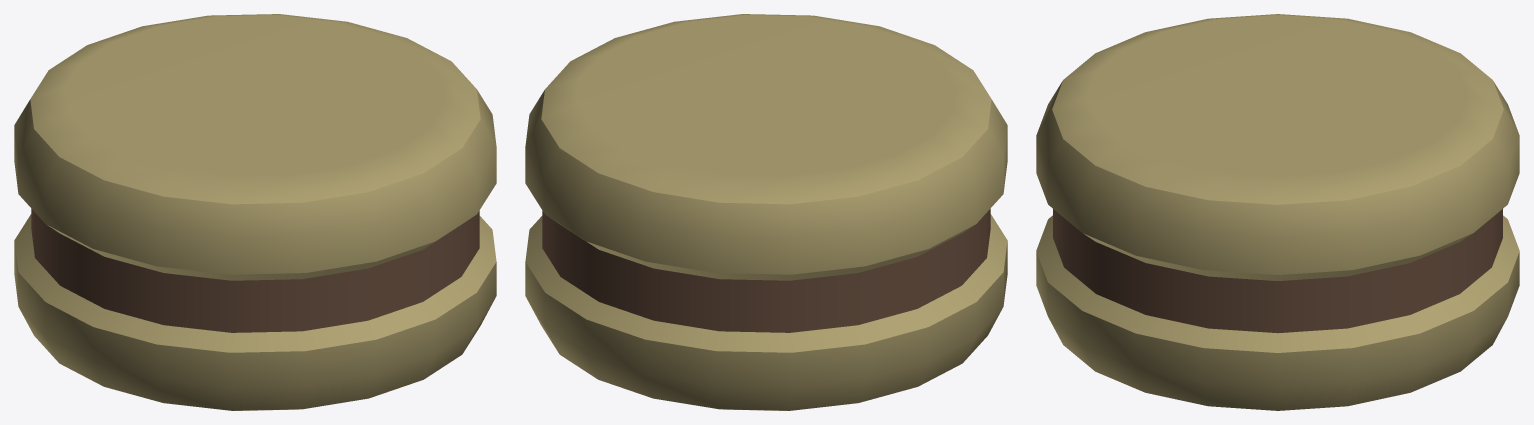
The model's file is SM_Prop_Hamburger.fbx.
The picture shows the model from 3 angles, left to right: view 1: azimuth 30°, elevation 25°; view 2: azimuth 150°, elevation 25°; view 3: azimuth 270°, elevation 25°; orthographic projection.
Visible parts, largest first — view 1: SM_Prop_Hamburger; view 2: SM_Prop_Hamburger; view 3: SM_Prop_Hamburger.
Part boxes in pixels (x1=…): SM_Prop_Hamburger: x1=14, y1=14, x2=496, y2=410; SM_Prop_Hamburger: x1=525, y1=14, x2=1007, y2=410; SM_Prop_Hamburger: x1=1036, y1=14, x2=1519, y2=410.
Size of the model in its own units: 11.25 by 6.02 by 11.25.
